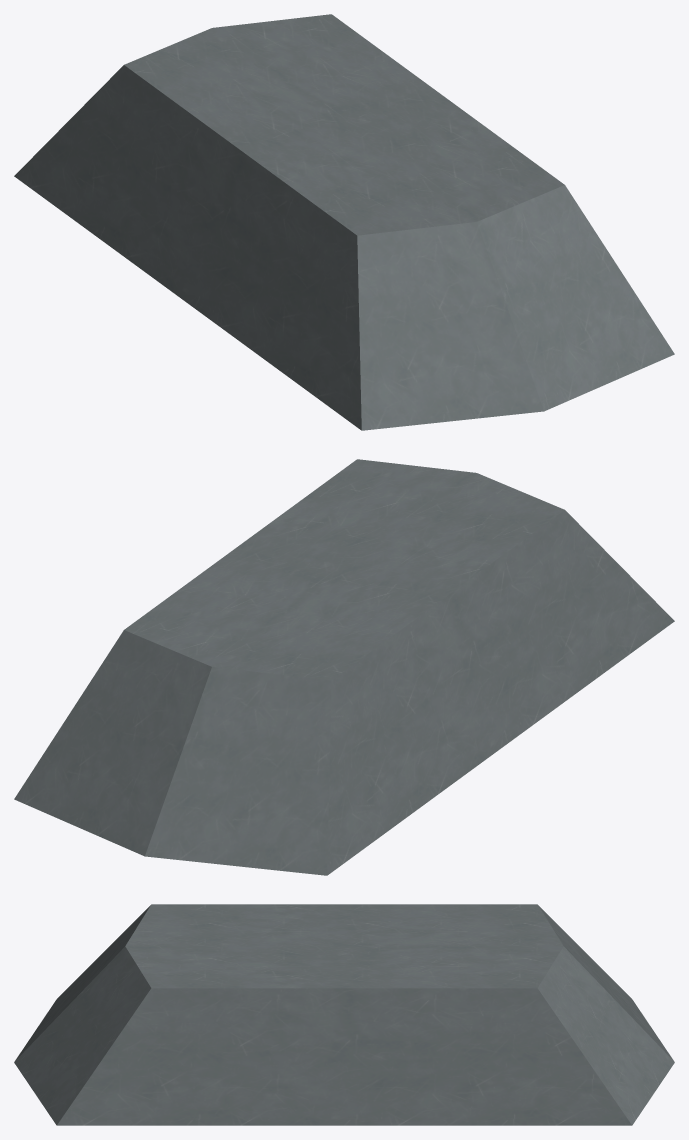
Rendered from Barra_Latao.fbx.
3 renders of one model, top to bottom at view 1: azimuth 30°, elevation 25°; view 2: azimuth 150°, elevation 25°; view 3: azimuth 270°, elevation 25°, orthographic. The views are drawn at different scales.
Parts seen in each view (by area): view 1: Barra de Metal; view 2: Barra de Metal; view 3: Barra de Metal.
Part boxes in pixels (x1=…): Barra de Metal: x1=14, y1=14, x2=674, y2=430; Barra de Metal: x1=14, y1=459, x2=674, y2=875; Barra de Metal: x1=14, y1=904, x2=674, y2=1125.
Bounding box in the file's own units: 21.32 × 9.13 × 47.09.
Materials: 1 (1 with a texture image).
